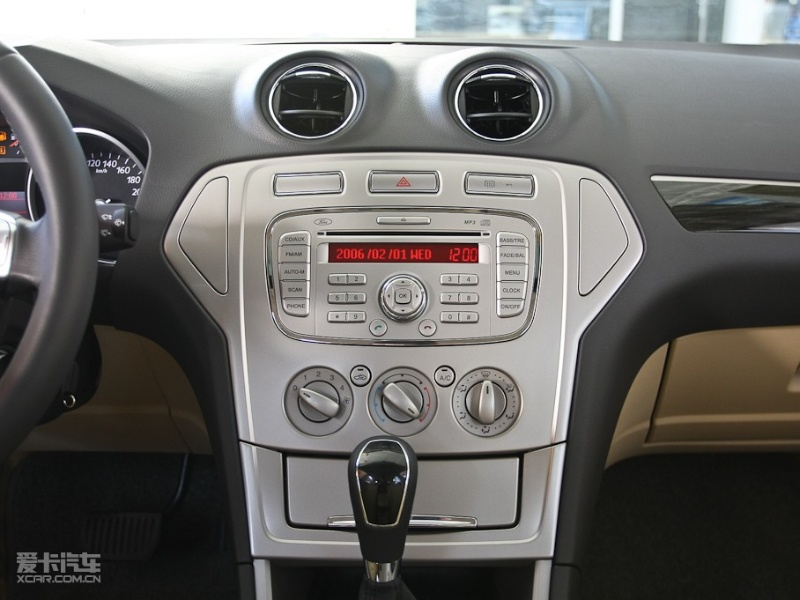control_center: (163, 49, 643, 437)
gear_lever: (326, 432, 449, 600)
odometer: (2, 92, 153, 236)
steering_wheel: (1, 32, 102, 489)
